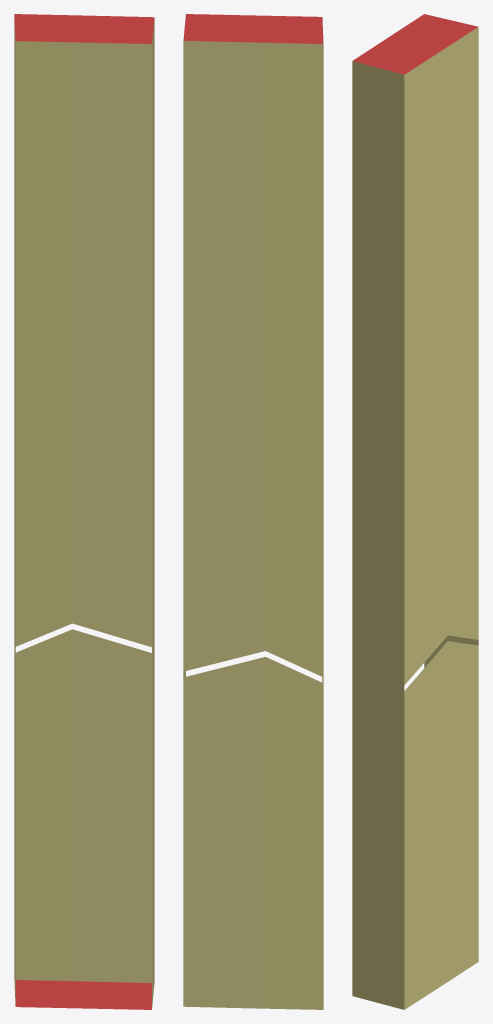
3 views of the same model, side by side, from view 1: azimuth 30°, elevation 25°; view 2: azimuth 210°, elevation 25°; view 3: azimuth 270°, elevation 25° (orthographic). The views are drawn at different scales.
Parts seen in each view (by area): view 1: group_4, group_3, group_5; view 2: group_4, group_3; view 3: group_4, group_3.
Boxes of the visible parts, <box> form: group_4: <box>14,15,154,1008</box>; group_3: <box>14,14,154,43</box>; group_5: <box>15,980,151,1009</box>; group_4: <box>183,40,323,1009</box>; group_3: <box>183,14,323,43</box>; group_4: <box>352,27,478,1009</box>; group_3: <box>353,14,477,74</box>.
Size of the model in its own units: 2.33 by 2.04 by 16.68.
